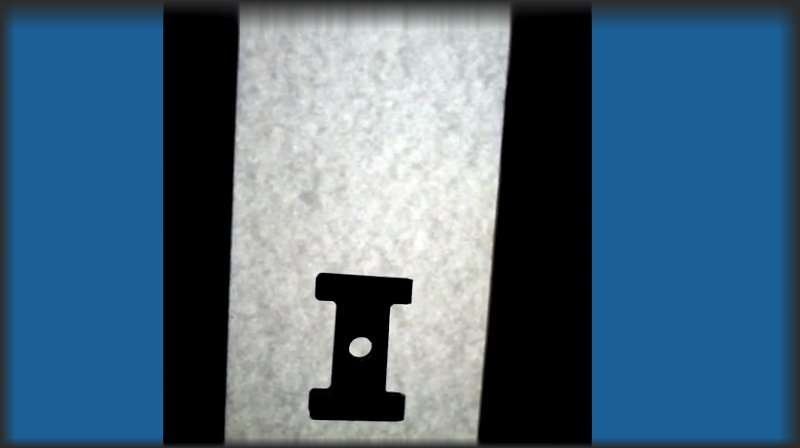O002: (301, 268, 419, 424)
